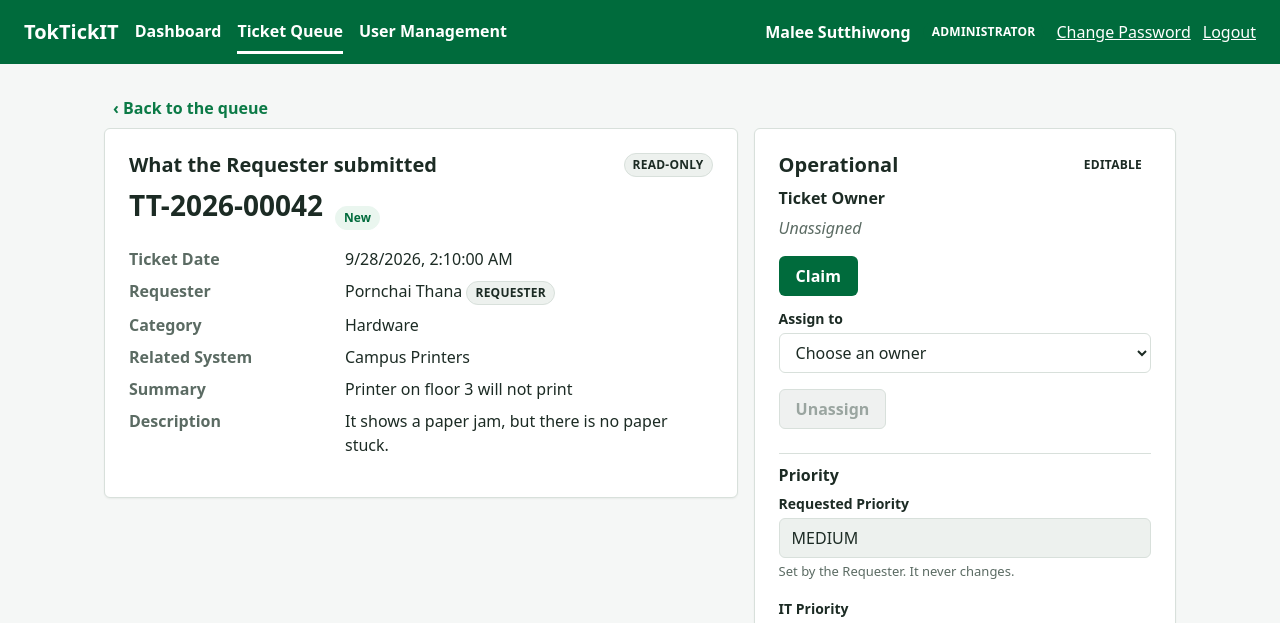
Test: UI-28 an Administrator on the ticket detail acts as themself (BR-45) › claims the ticket as the signed-in Administrator, never as someone else
Expected: the heading "TT-2026-00042" is shown, [129,189,323,223]
Click the button "Claim" at (818, 276), box [779,256,858,296]
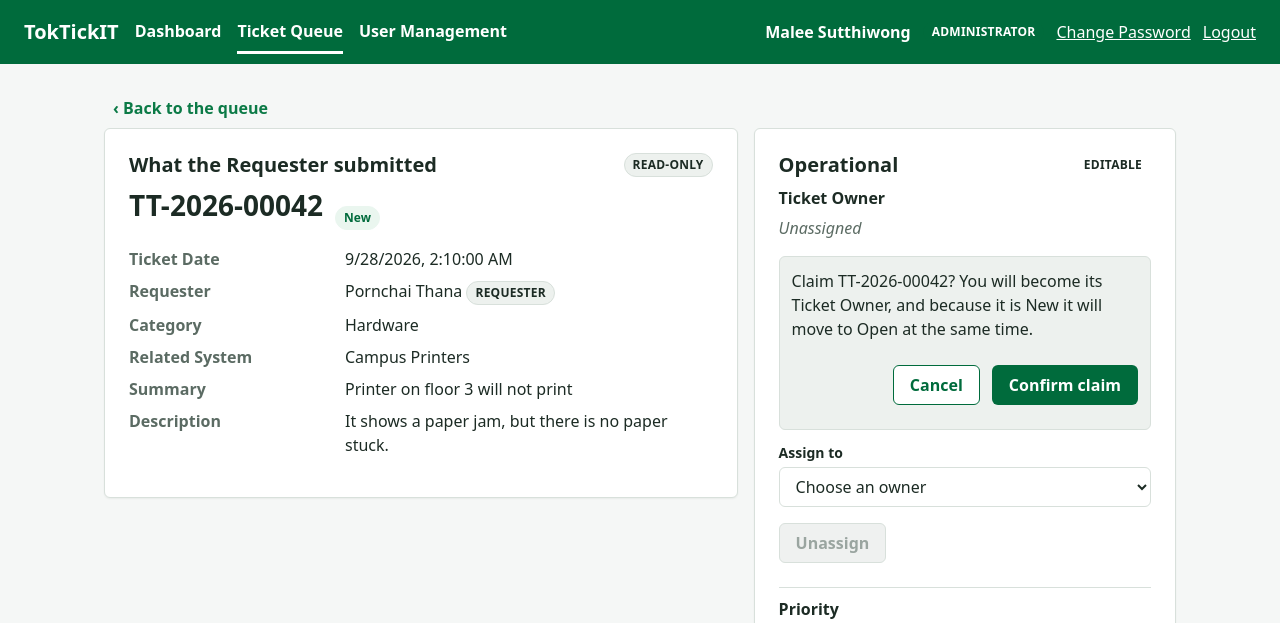
Click the button "Confirm claim" at (1065, 385), box [992,365,1138,405]
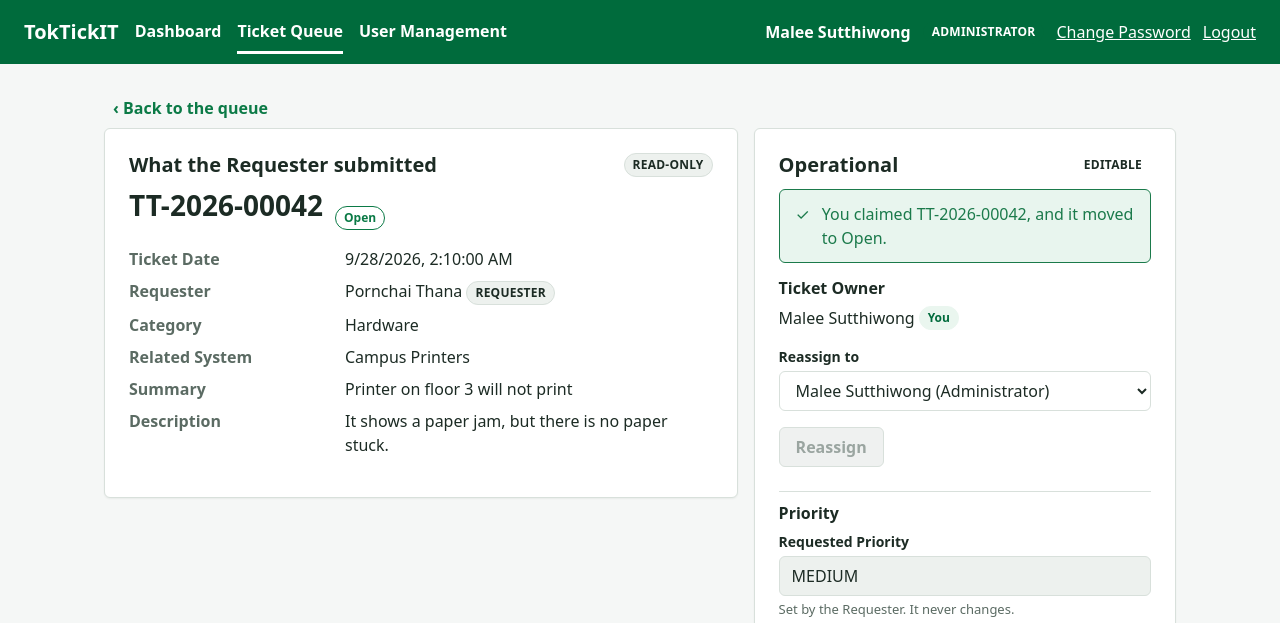
Result: the text "You claimed TT-2026-00042, and it moved to Open." is shown at [822,202,1134,250]
